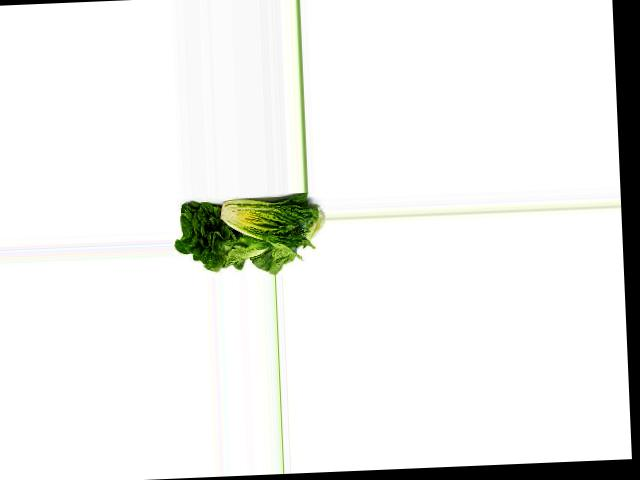lettuce: (175, 193, 266, 273)
